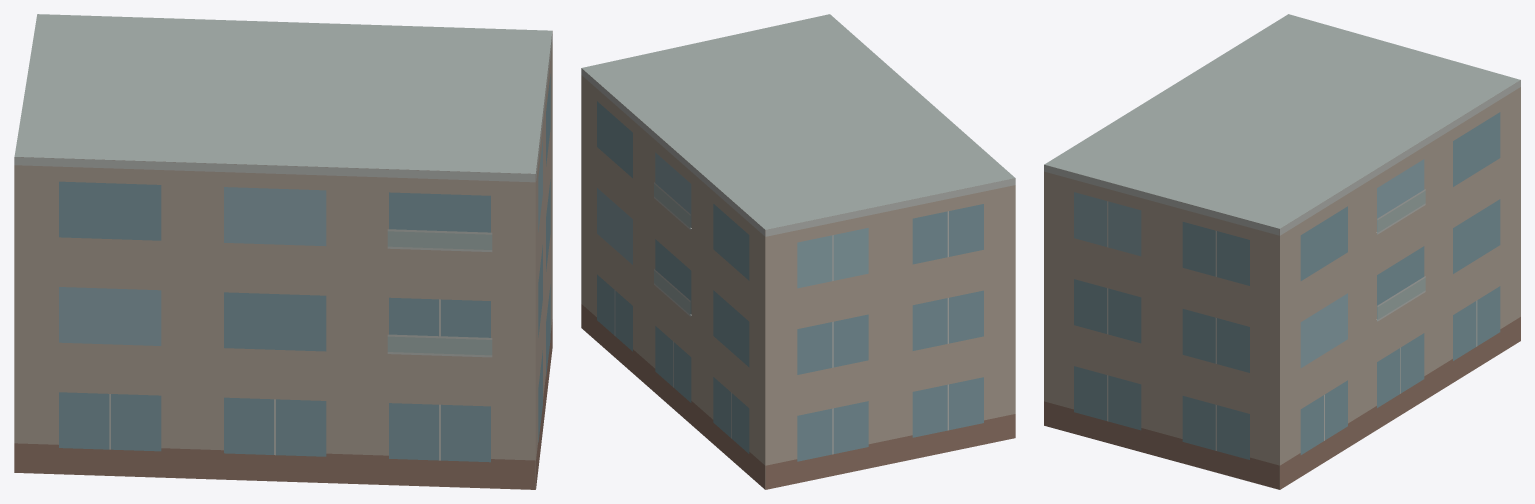
File: survey-upis-32749817.glb
3 views of the same model, side by side, from view 1: azimuth 30°, elevation 25°; view 2: azimuth 150°, elevation 25°; view 3: azimuth 270°, elevation 25° (orthographic). The views are drawn at different scales.
Parts seen in each view (by area): view 1: survey-upis-32749817.tmp; view 2: survey-upis-32749817.tmp; view 3: survey-upis-32749817.tmp.
Boxes of the visible parts, x1,y1,x2,y2 form: survey-upis-32749817.tmp: (14,14,552,489); survey-upis-32749817.tmp: (581,14,1015,489); survey-upis-32749817.tmp: (1044,14,1520,489).
Size of the model in its own units: 16.16 by 9.15 by 15.15.
